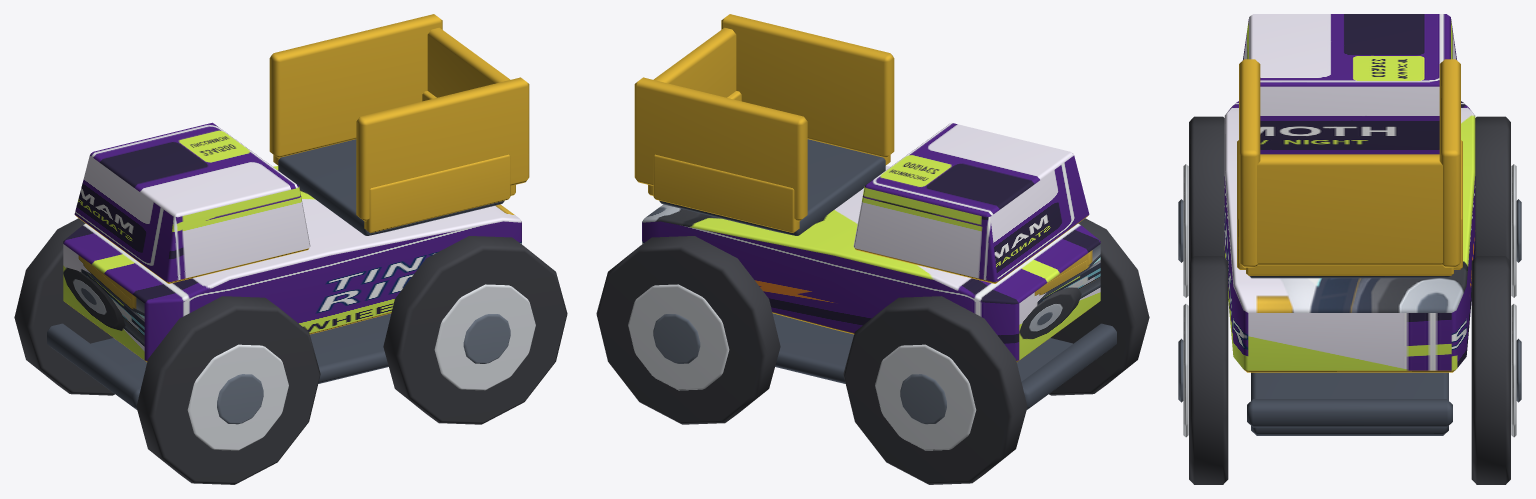
3 renders of one model, left to right at view 1: azimuth 30°, elevation 25°; view 2: azimuth 150°, elevation 25°; view 3: azimuth 270°, elevation 25°, orthographic. The views are drawn at different scales.
Visible parts, largest first — view 1: BW-04_connected_shell, BW-04_cabin, Tire, Tire.002, raised tipper wall.001, raised tipper wall, Tire.001, cargo side, Rim, Rim.002, underbody, cargo floor (+4 smaller); view 2: BW-04_connected_shell, BW-04_cabin, Tire.001, Tire.003, raised tipper wall, raised tipper wall.001, Tire, cargo side.001, Rim.001, Rim.003, underbody, cargo floor (+4 smaller); view 3: BW-04_connected_shell, BW-04_cabin, raised tail gate, Tire.002, Tire.003, underbody, rear bumper, Tire, Tire.001, raised tipper wall, raised tipper wall.001, cargo tail (+7 smaller).
Boxes of the visible parts, x1,y1,x2,y2 form: BW-04_connected_shell: [63, 166, 521, 361]; BW-04_cabin: [74, 122, 310, 283]; Tire: [136, 296, 320, 484]; Tire.002: [383, 236, 567, 424]; raised tipper wall.001: [269, 14, 442, 157]; raised tipper wall: [356, 77, 529, 221]; Tire.001: [14, 218, 114, 395]; cargo side: [364, 154, 510, 232]; Rim: [187, 344, 288, 450]; Rim.002: [434, 284, 535, 390]; underbody: [91, 313, 391, 383]; cargo floor: [278, 139, 504, 235]; BW-04_connected_shell: [642, 166, 1100, 361]; BW-04_cabin: [853, 122, 1089, 283]; Tire.001: [843, 296, 1027, 484]; Tire.003: [596, 236, 780, 424]; raised tipper wall: [721, 14, 894, 157]; raised tipper wall.001: [634, 77, 807, 221]; Tire: [1049, 218, 1149, 395]; cargo side.001: [653, 154, 799, 232]; Rim.001: [875, 344, 976, 450]; Rim.003: [628, 284, 729, 390]; underbody: [772, 313, 1072, 383]; cargo floor: [659, 139, 885, 235]; BW-04_connected_shell: [1224, 101, 1475, 372]; BW-04_cabin: [1242, 14, 1457, 154]; raised tail gate: [1257, 154, 1442, 265]; Tire.002: [1189, 256, 1228, 484]; Tire.003: [1471, 256, 1510, 484]; underbody: [1251, 372, 1448, 435]; rear bumper: [1247, 399, 1452, 427]; Tire: [1189, 116, 1224, 260]; Tire.001: [1475, 116, 1510, 260]; raised tipper wall: [1239, 59, 1260, 267]; raised tipper wall.001: [1439, 59, 1460, 267]; cargo tail: [1246, 265, 1453, 275].
Bounding box in the file's own units: 370 × 264 × 227.
